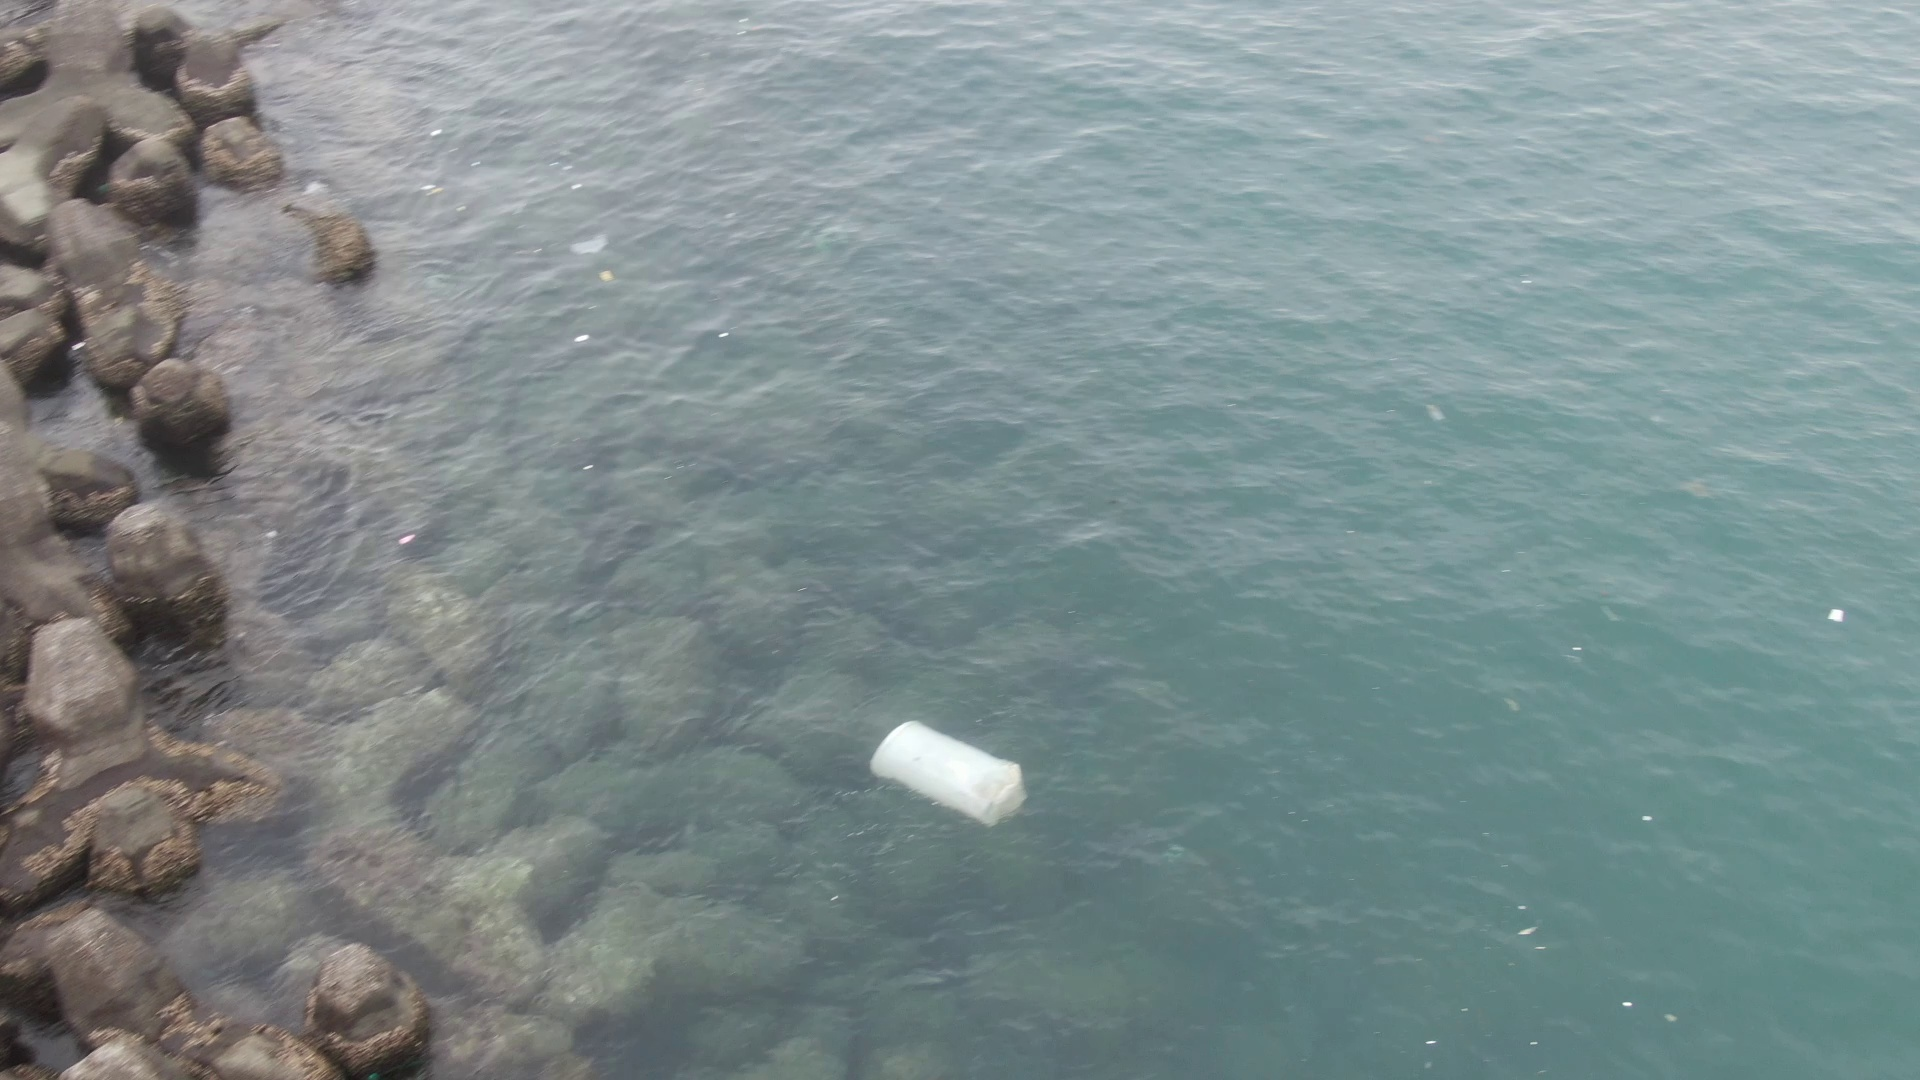garbage: (852, 705, 1036, 824), (1822, 603, 1853, 636)
